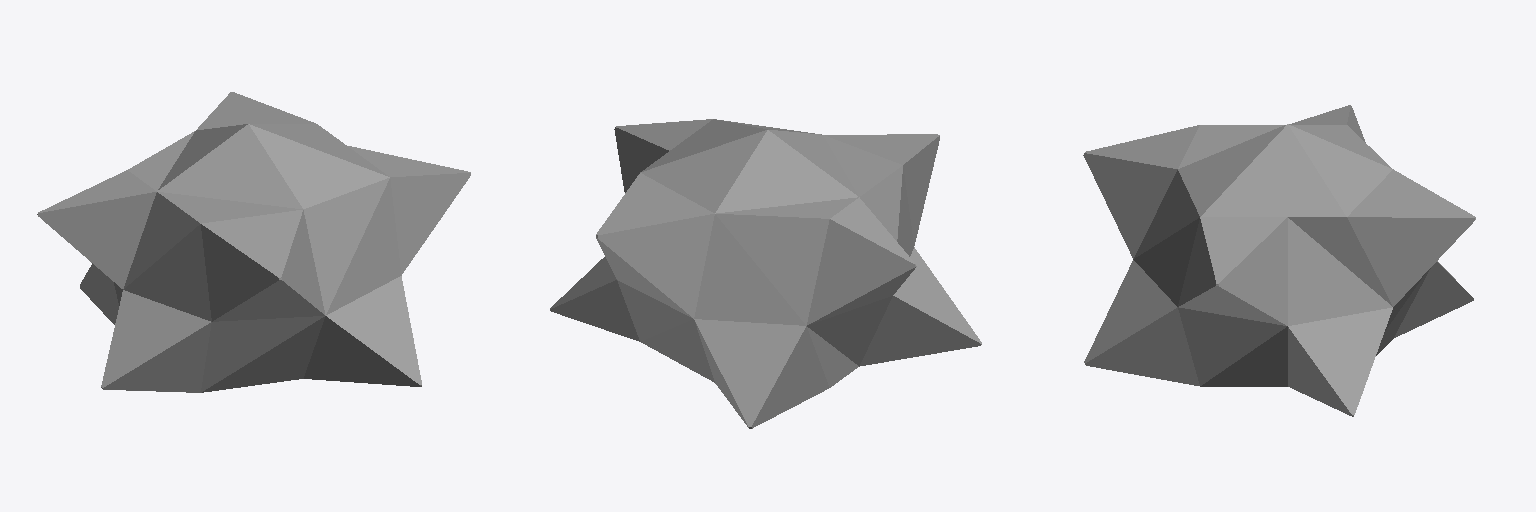
Rendered from sceneDBlock.obj.
3 views of the same model, side by side, from view 1: azimuth 30°, elevation 25°; view 2: azimuth 150°, elevation 25°; view 3: azimuth 270°, elevation 25° (orthographic).
Parts seen in each view (by area): view 1: bolitaFBXASC032puas; view 2: bolitaFBXASC032puas; view 3: bolitaFBXASC032puas.
Part boxes in pixels (bbox=[...]): bolitaFBXASC032puas: bbox=[37, 92, 470, 392]; bolitaFBXASC032puas: bbox=[550, 119, 981, 428]; bolitaFBXASC032puas: bbox=[1083, 105, 1475, 416].
Bounding box in the file's own units: 2.05 × 1.39 × 1.9.